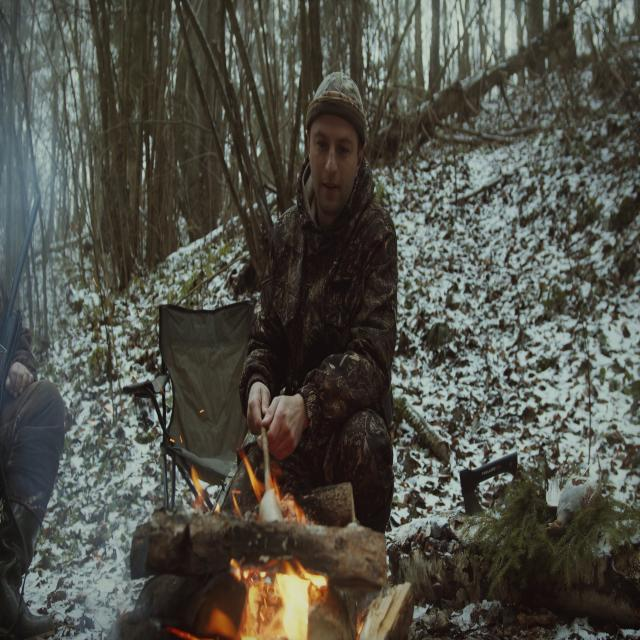Fire: (222, 461, 324, 637)
